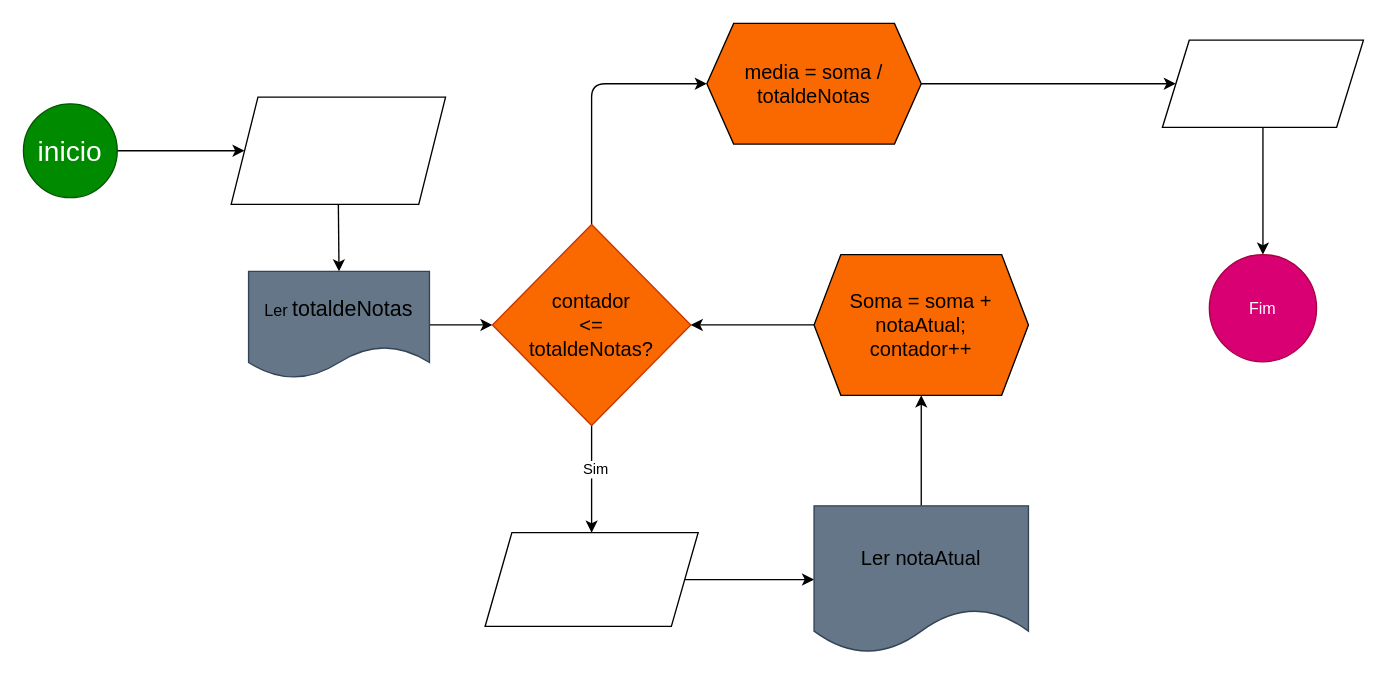
Some shapes in this 1387 by 677 pixel diagram are drawn without their labels. Here are the shapes that lost their labels. From the top down, the box of each, then its label:
(1161, 39, 1363, 127): media
(230, 96, 446, 204): Digite o total de notas
(484, 531, 698, 626): informe a nota N
